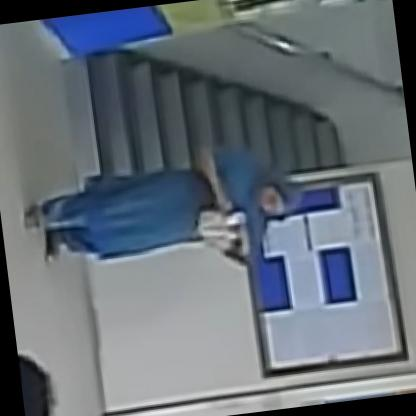Human Body: (12, 130, 314, 292)
